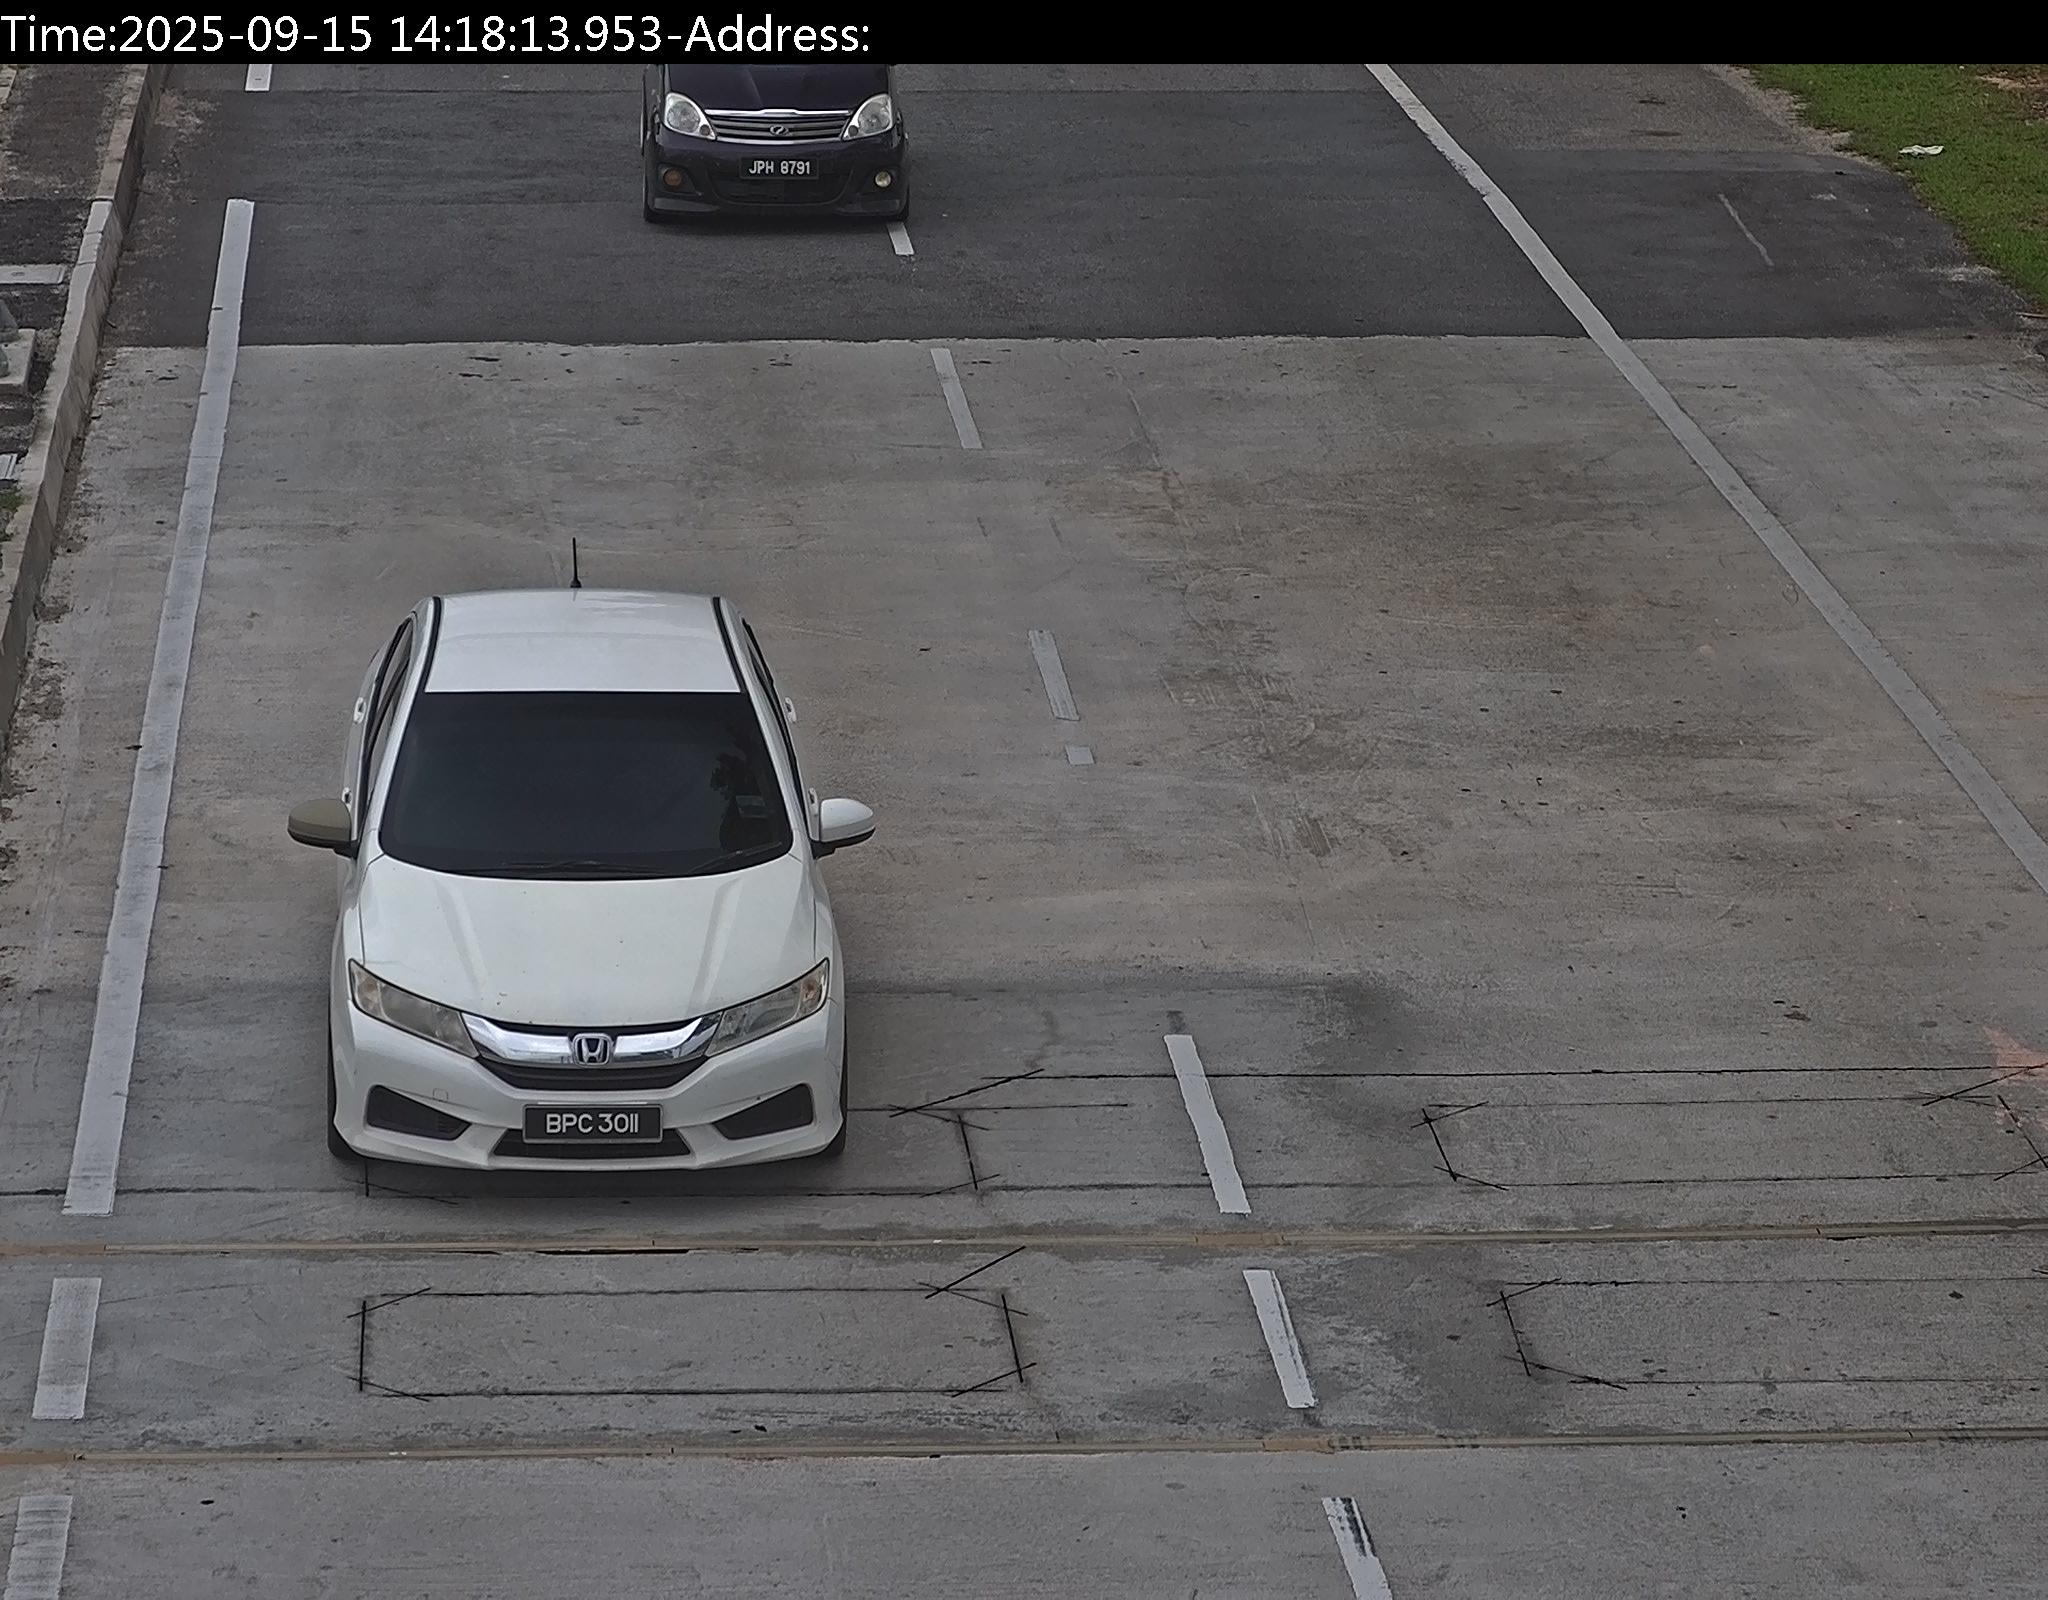non broken: (525, 1106, 660, 1141), (743, 156, 818, 180)
